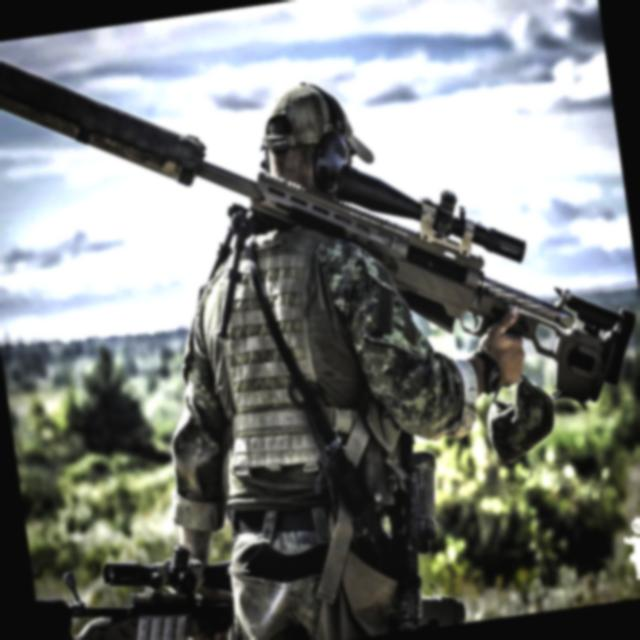rifle: (0, 0, 640, 493), (30, 523, 282, 640)
